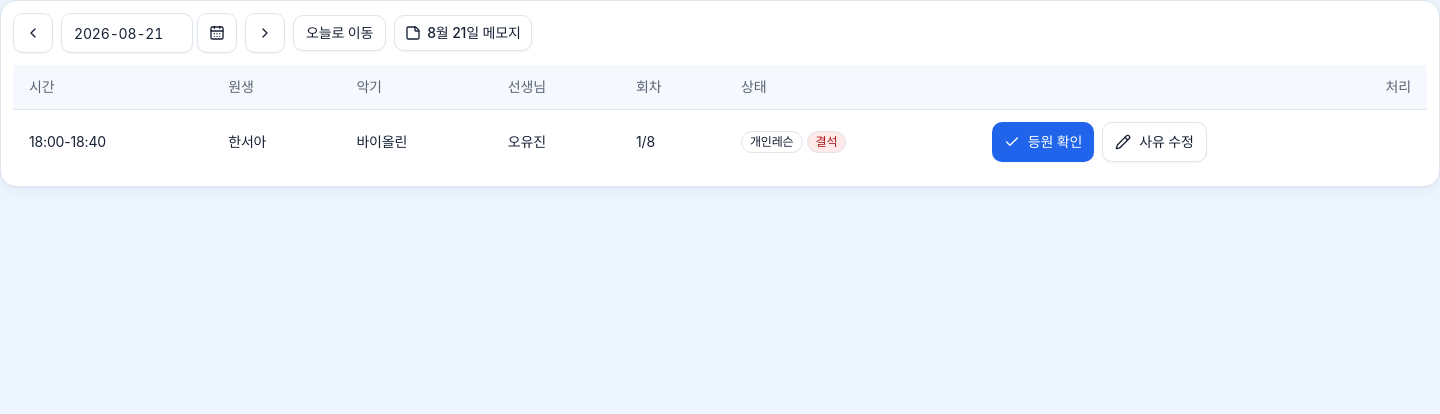
Test: PrivateLessonDayView › 이미 결석인 레슨은 사유 수정을 제공하고 현재 사유를 채운다
Click the button "사유 수정".
click(1155, 142)  # box [1102,122,1207,162]
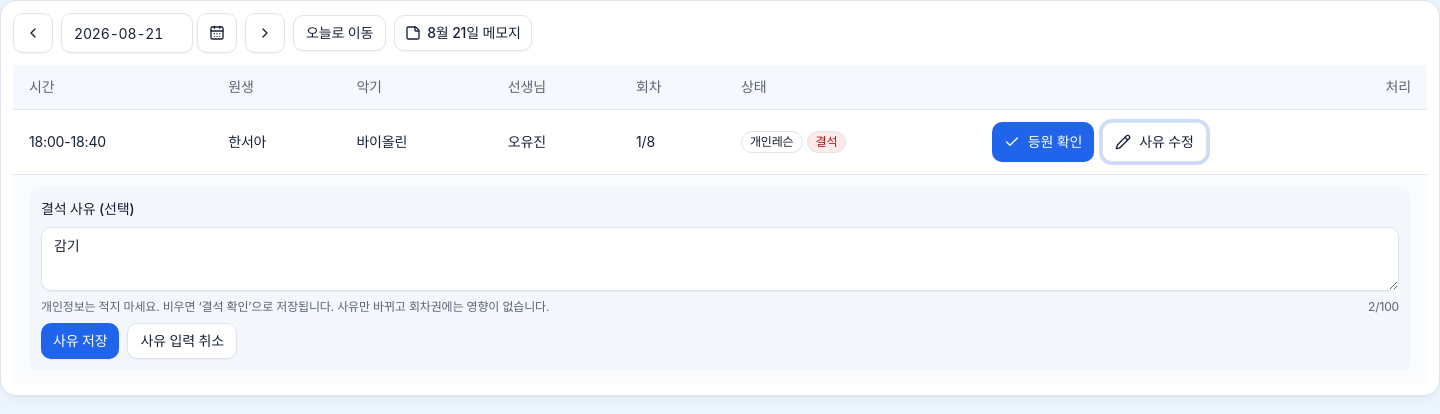
Expected: the text box labelled "결석 사유 (선택)" holds "감기", [41,226,1399,290]
